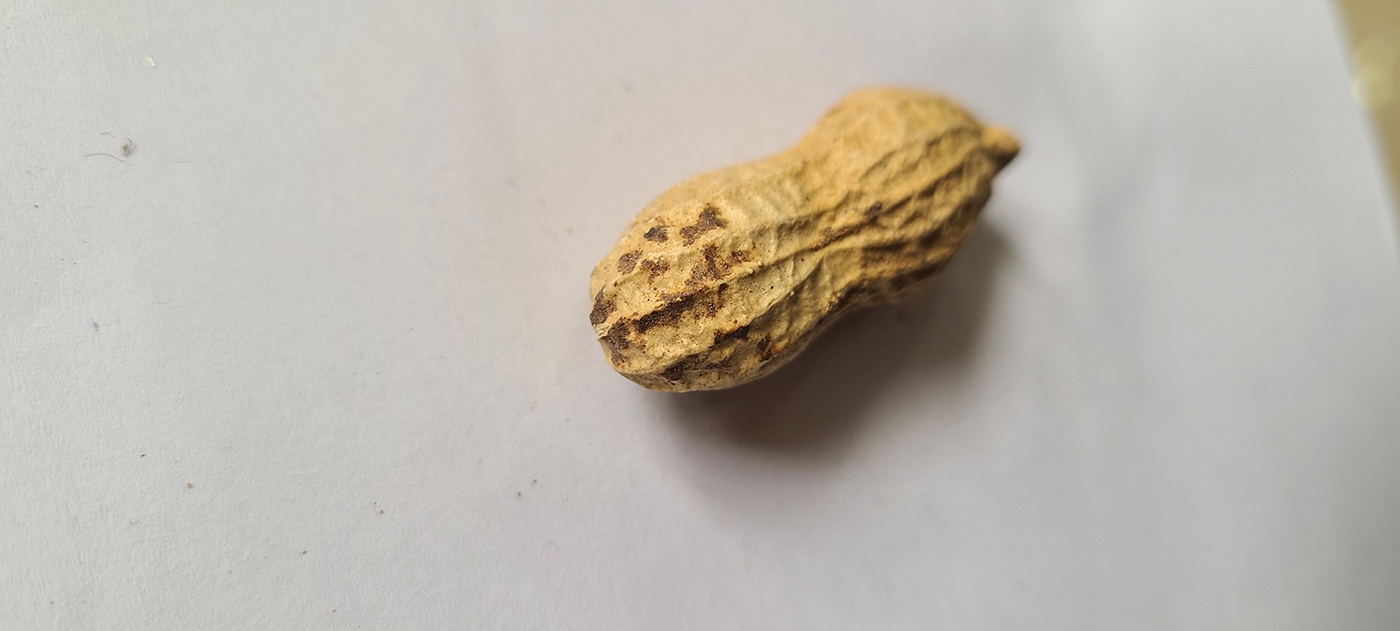h: (585, 83, 1020, 395)
